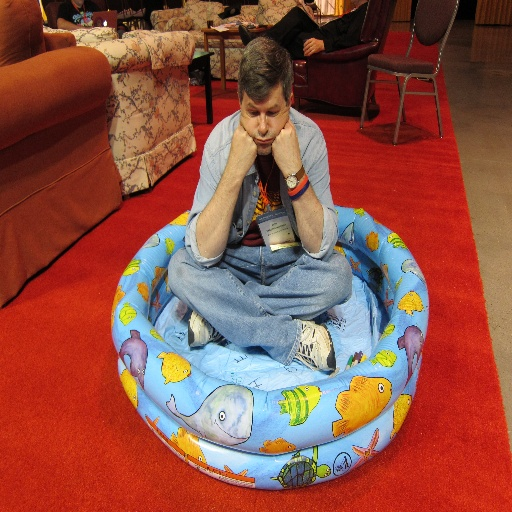hand: (271, 116, 304, 179), (227, 119, 257, 177), (303, 36, 321, 55), (88, 25, 92, 29)
